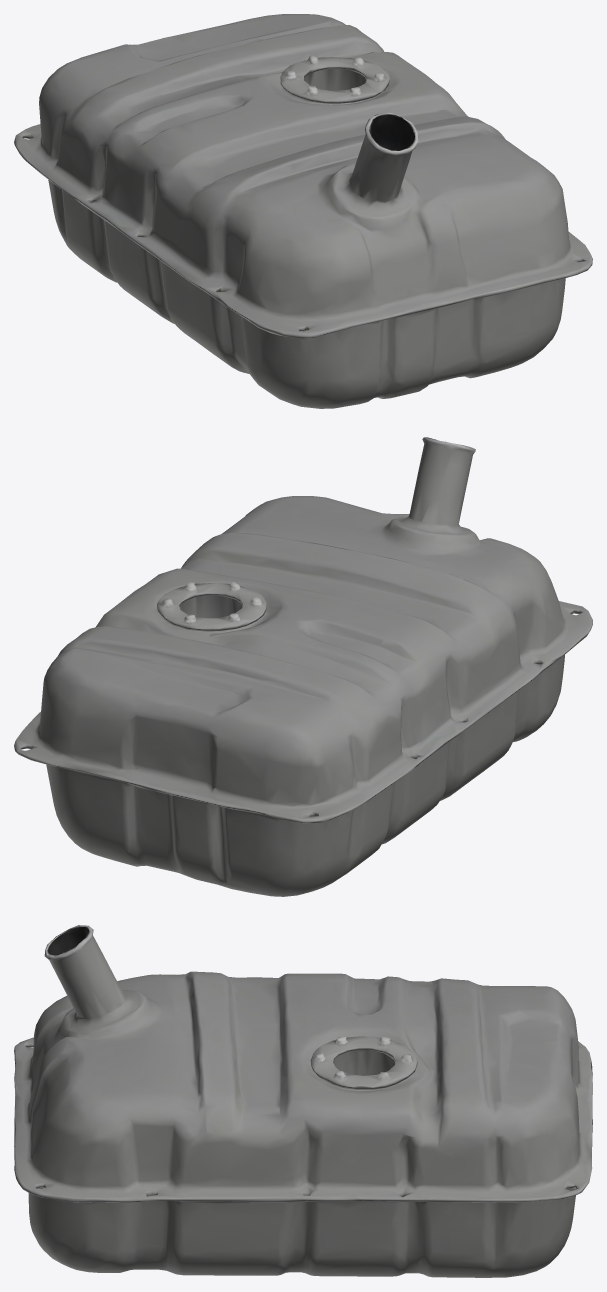
The model's file is fuel-tank.glb.
3 views of the same model, one above another, from view 1: azimuth 30°, elevation 25°; view 2: azimuth 150°, elevation 25°; view 3: azimuth 270°, elevation 25° (orthographic).
Visible parts, largest first — view 1: tripo_node_7dc0a0b3-0719-46d8-ae19-8612dfc64ace; view 2: tripo_node_7dc0a0b3-0719-46d8-ae19-8612dfc64ace; view 3: tripo_node_7dc0a0b3-0719-46d8-ae19-8612dfc64ace.
Part boxes in pixels (left/top/right/bottom): tripo_node_7dc0a0b3-0719-46d8-ae19-8612dfc64ace: left=14, top=14, right=592, bottom=408; tripo_node_7dc0a0b3-0719-46d8-ae19-8612dfc64ace: left=14, top=437, right=592, bottom=896; tripo_node_7dc0a0b3-0719-46d8-ae19-8612dfc64ace: left=14, top=925, right=592, bottom=1277.
Size of the model in its own units: 0.6793 by 0.5343 by 1.
Materials: 1 (1 with a texture image).
